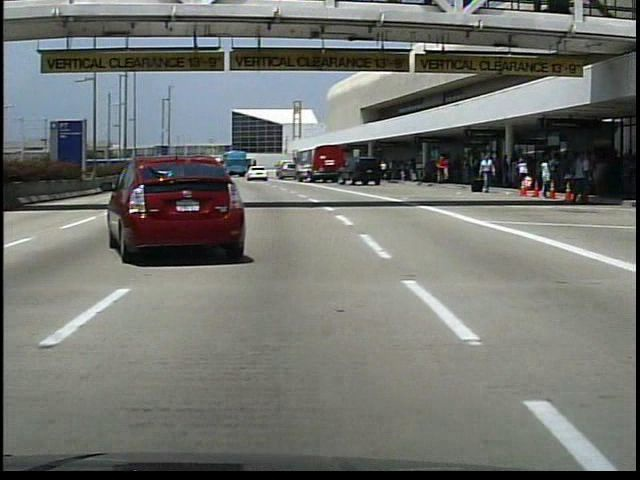person: (567, 154, 587, 206), (478, 154, 497, 195), (434, 156, 450, 185), (378, 161, 390, 182)
